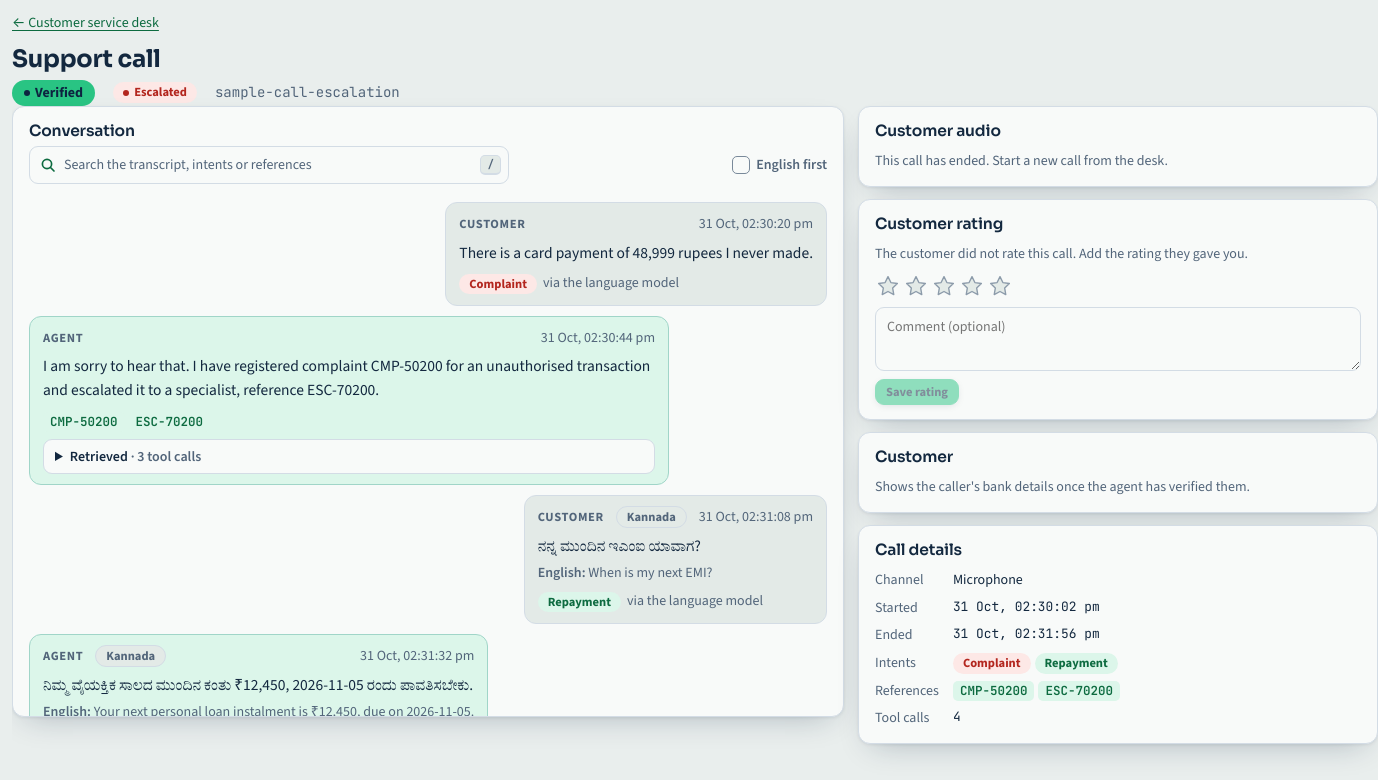
Test: English beside Kannada and Hindi turns › "English first" puts the English line first and the original beneath it, labelled with its language
Click the switch labelled "English first" at x=741, y=165, box left=732, top=156, right=750, bottom=174
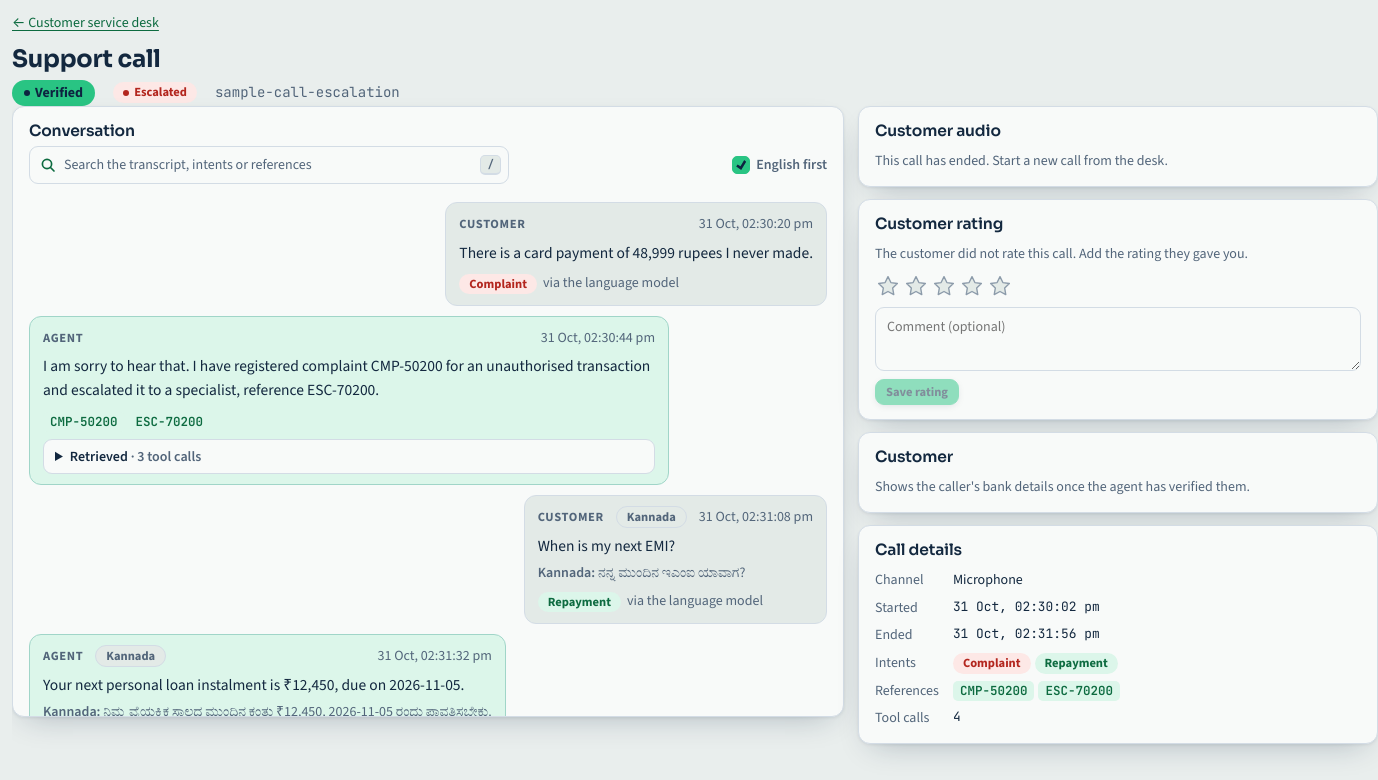
Expected: the switch labelled "English first" is checked
Expected: the text "When is my next EMI?" is shown, left=538, top=535, right=675, bottom=556
Expected: the text "When is my next EMI?" no longer shows "English:", left=538, top=535, right=675, bottom=556
Click the switch labelled "English first" at x=741, y=165, box left=732, top=156, right=750, bottom=174
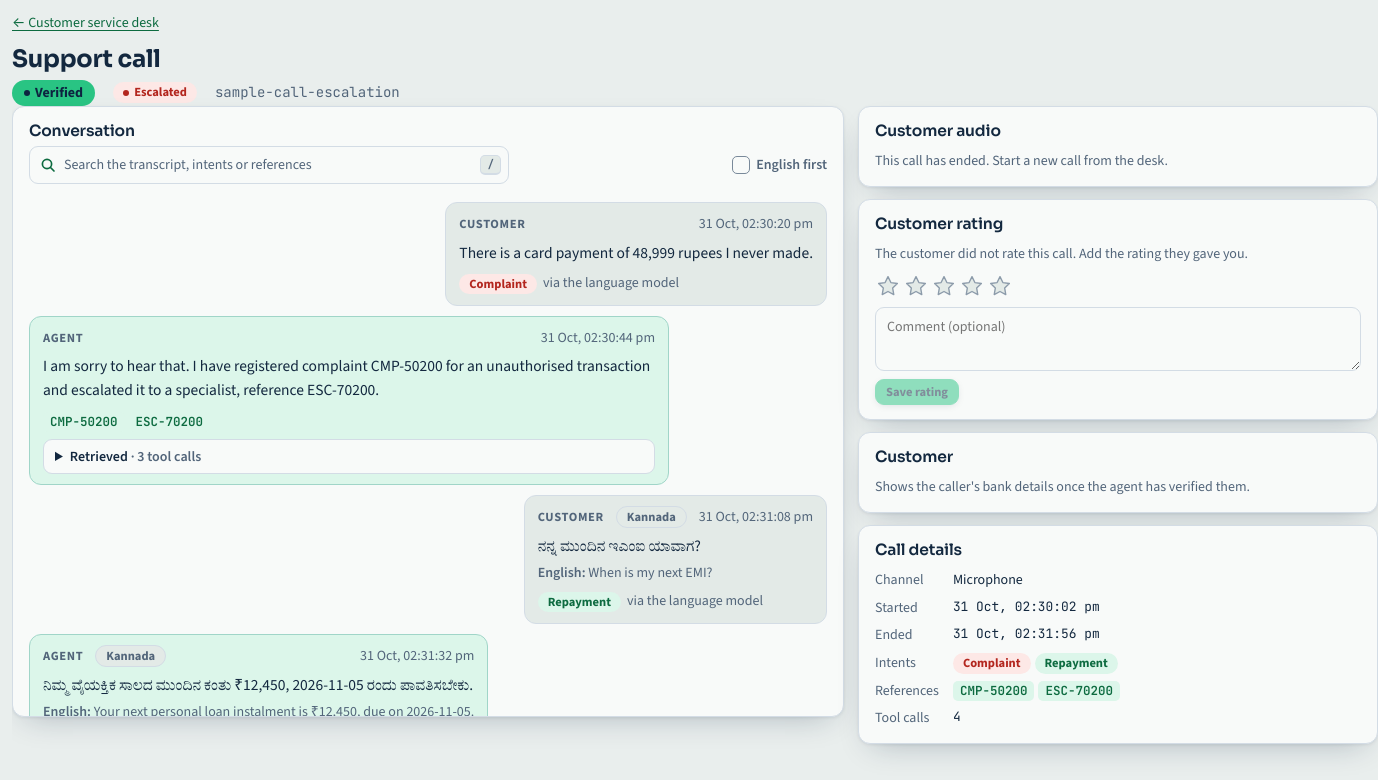
Expected: the text "ನನ್ನ ಮುಂದಿನ ಇಎಂಐ ಯಾವಾಗ?" is shown, left=538, top=535, right=701, bottom=556
